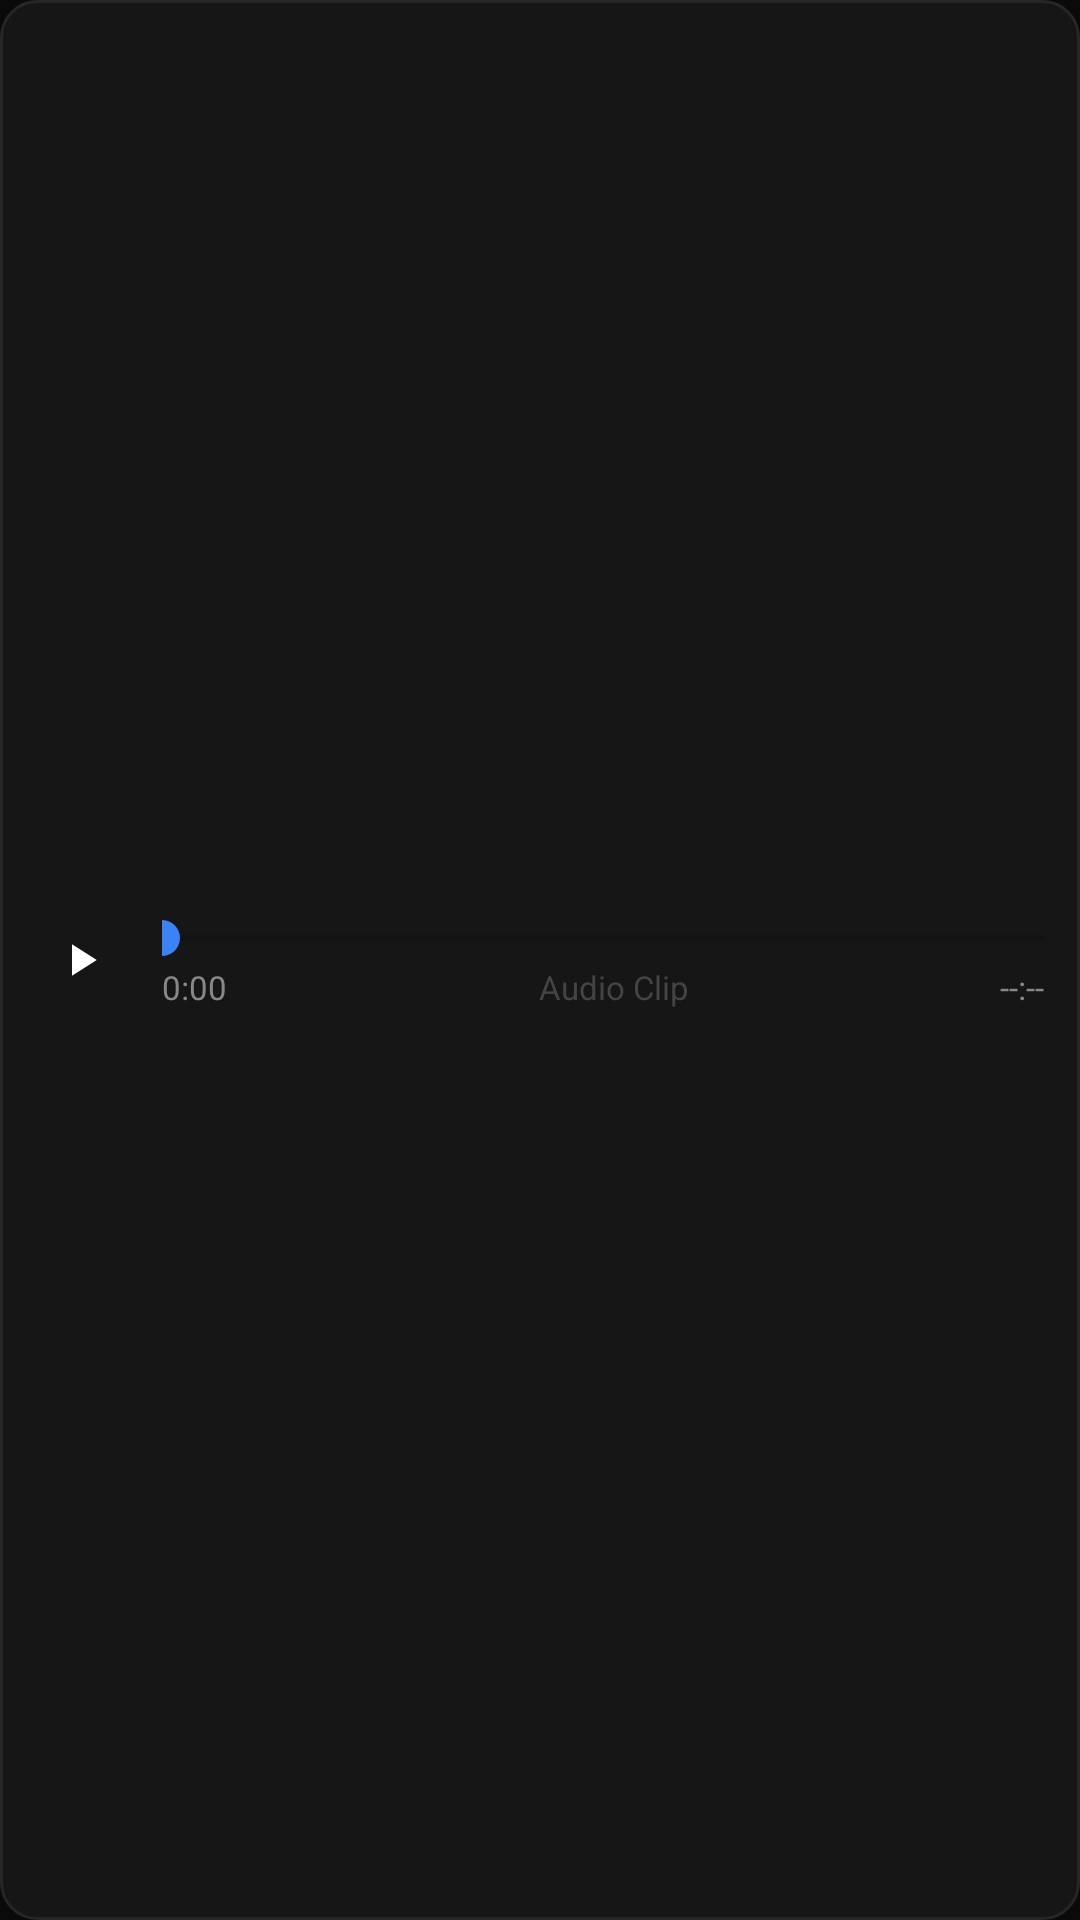

Icon bounding boxes for this 1080 × 1920 phone screenshot, format (x1, y1, x2, y2):
play: (72, 944, 97, 976)
